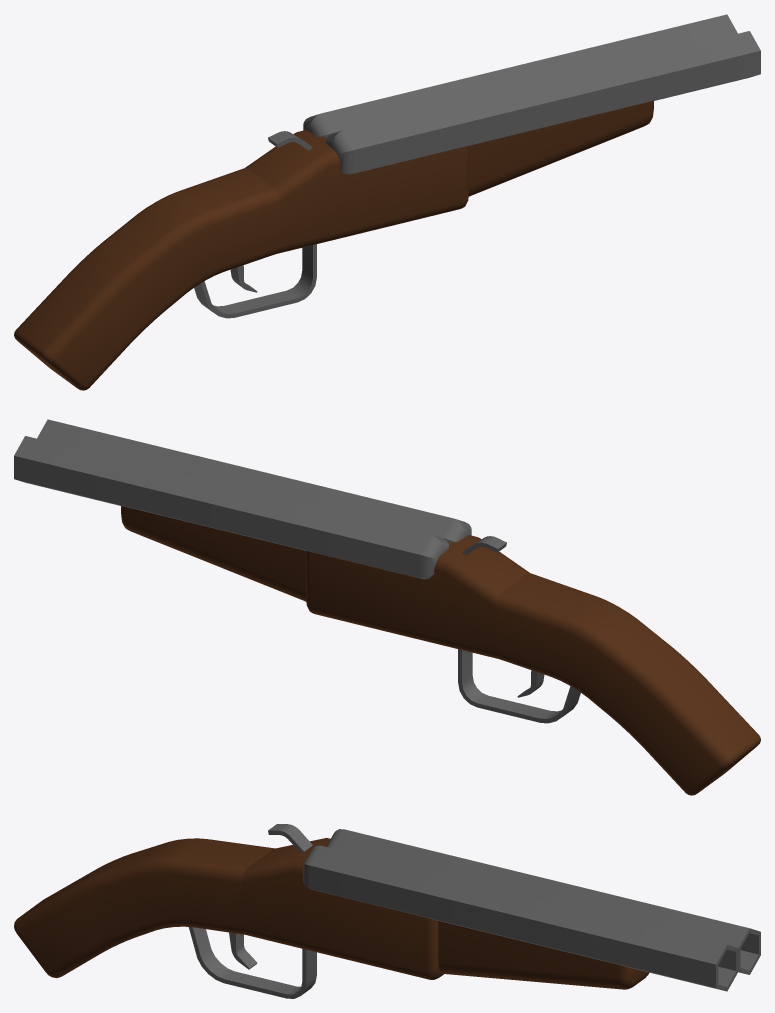
File: Barrel Shotgun.fbx
3 renders of one model, top to bottom at view 1: azimuth 30°, elevation 25°; view 2: azimuth 150°, elevation 25°; view 3: azimuth 330°, elevation 25°, orthographic.
Visible parts, largest first — view 1: Barrel; view 2: Barrel; view 3: Barrel.
Part boxes in pixels (box(x1,y1,x2,y2)): Barrel: box(14, 14, 760, 390); Barrel: box(14, 419, 760, 795); Barrel: box(14, 824, 760, 998).
Bounding box in the file's own units: 1062 × 278 × 116.
